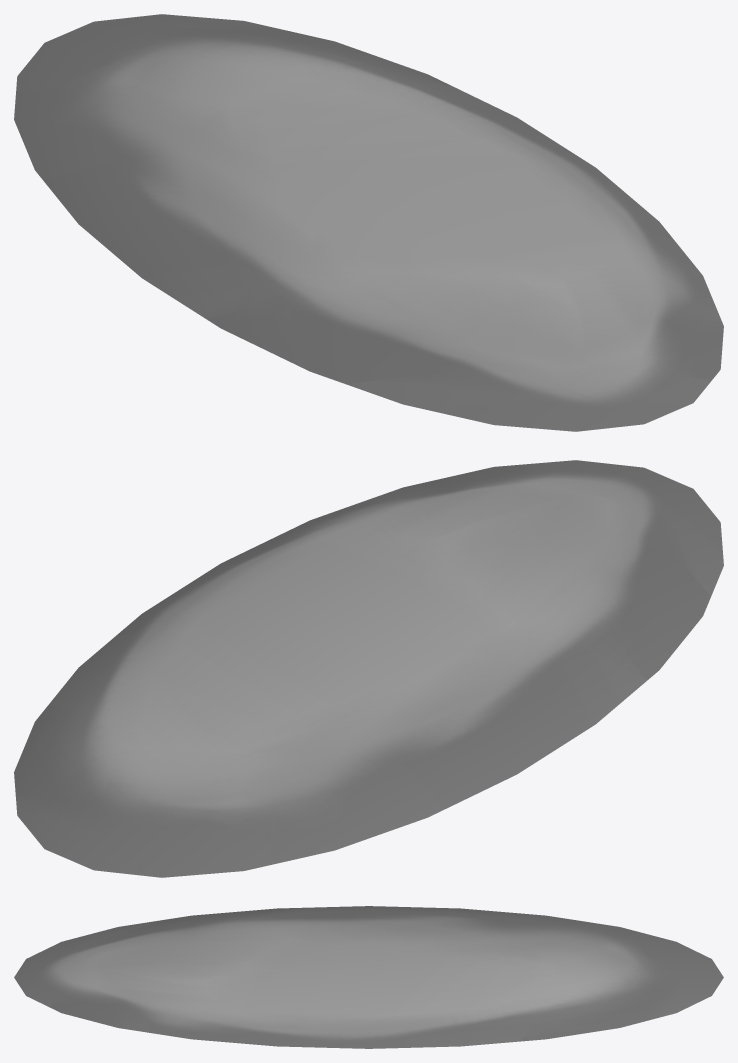
The model's file is Rug.fbx.
3 views of the same model, one above another, from view 1: azimuth 30°, elevation 25°; view 2: azimuth 150°, elevation 25°; view 3: azimuth 270°, elevation 25° (orthographic). The views are drawn at different scales.
Parts seen in each view (by area): view 1: M_Rug; view 2: M_Rug; view 3: M_Rug.
Part boxes in pixels (x1,y1,x2,y2): M_Rug: (14, 14, 723, 431); M_Rug: (14, 460, 723, 877); M_Rug: (14, 906, 723, 1048).
Size of the model in its own units: 0.7925 by 0.0305 by 1.66.
